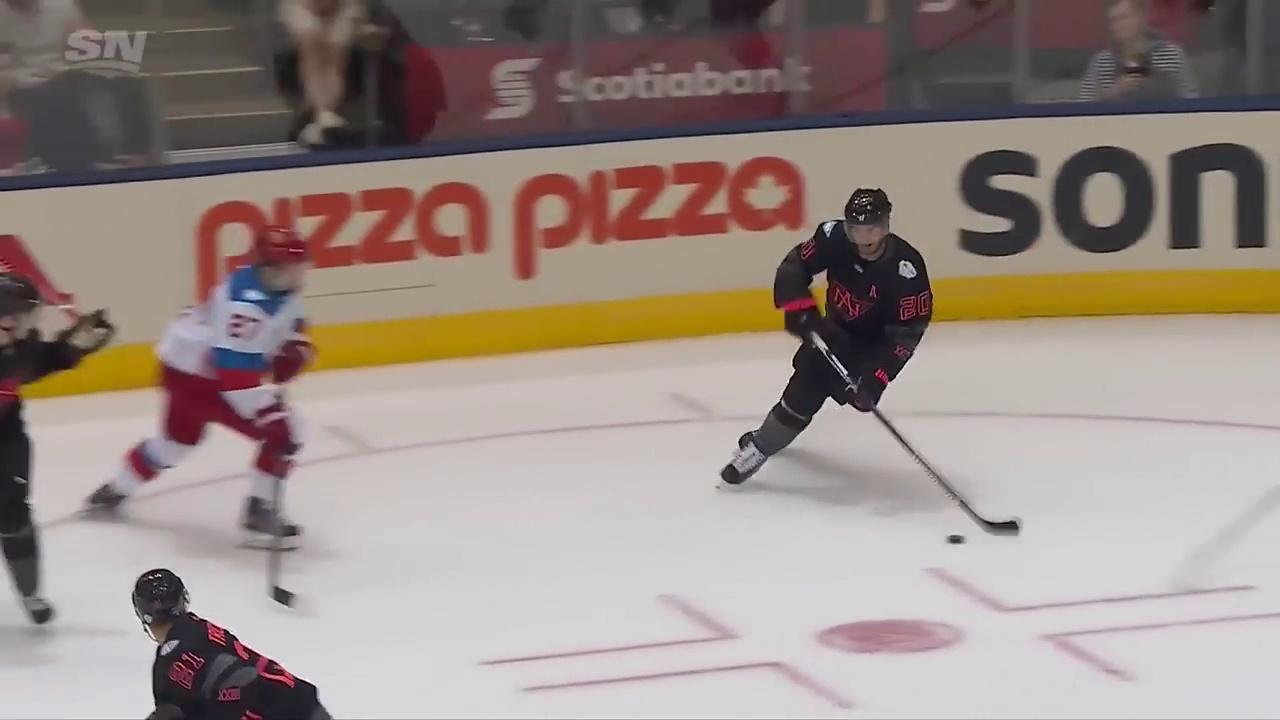ball: (944, 535, 966, 545)
